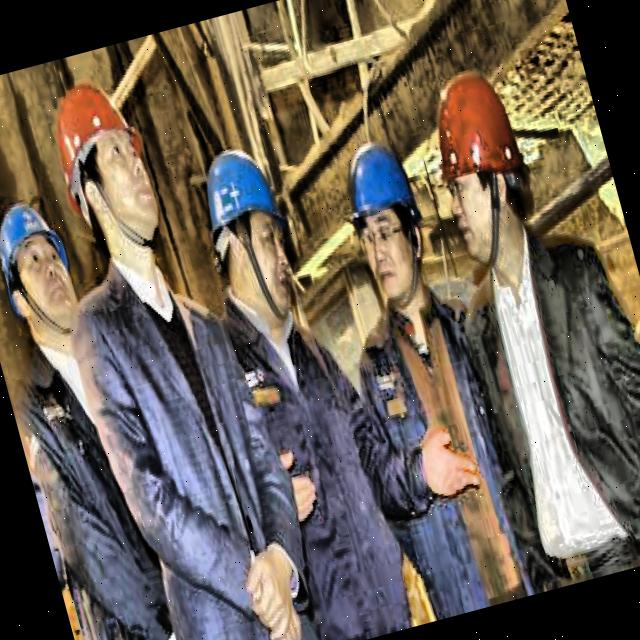helmet: (36, 58, 180, 274), (420, 58, 552, 268), (185, 128, 306, 322), (334, 120, 449, 308), (0, 188, 89, 339)
